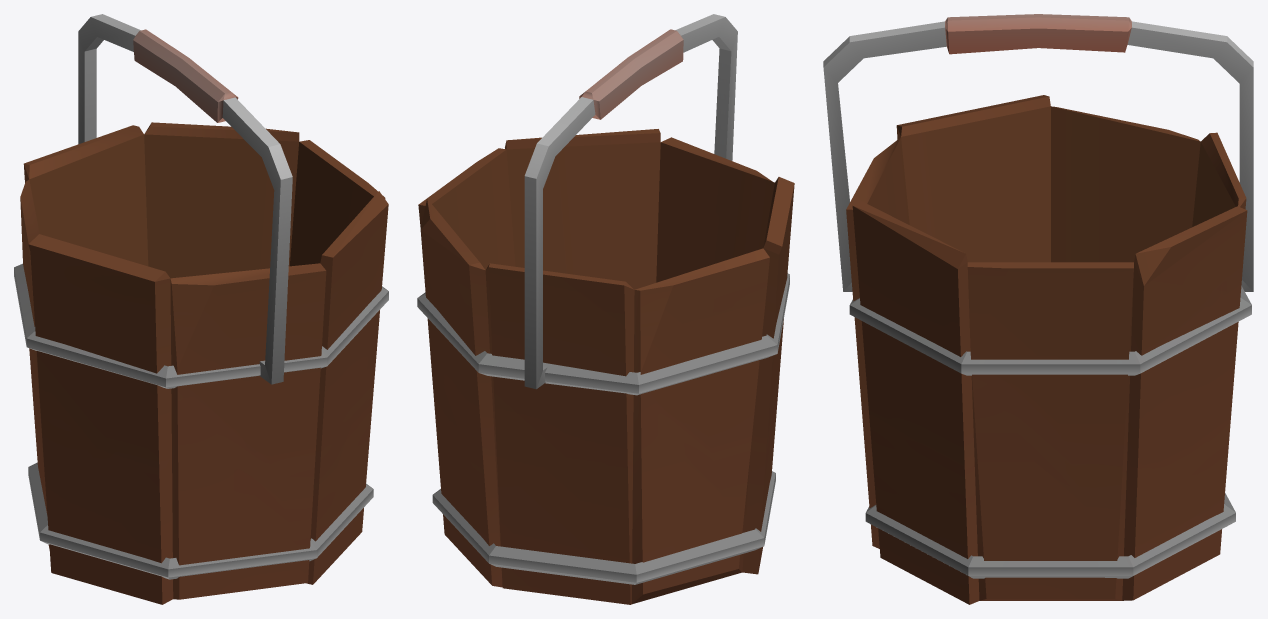
File: Bucket1.fbx
The picture shows the model from 3 angles, left to right: view 1: azimuth 30°, elevation 25°; view 2: azimuth 150°, elevation 25°; view 3: azimuth 270°, elevation 25°; orthographic projection. The views are drawn at different scales.
Parts seen in each view (by area): view 1: Bucket1; view 2: Bucket1; view 3: Bucket1.
Boxes of the visible parts, bbox=[...] form: Bucket1: bbox=[14, 14, 388, 604]; Bucket1: bbox=[417, 14, 794, 604]; Bucket1: bbox=[823, 14, 1253, 604].
Size of the model in its own units: 0.00405 by 0.00581 by 0.0044.
